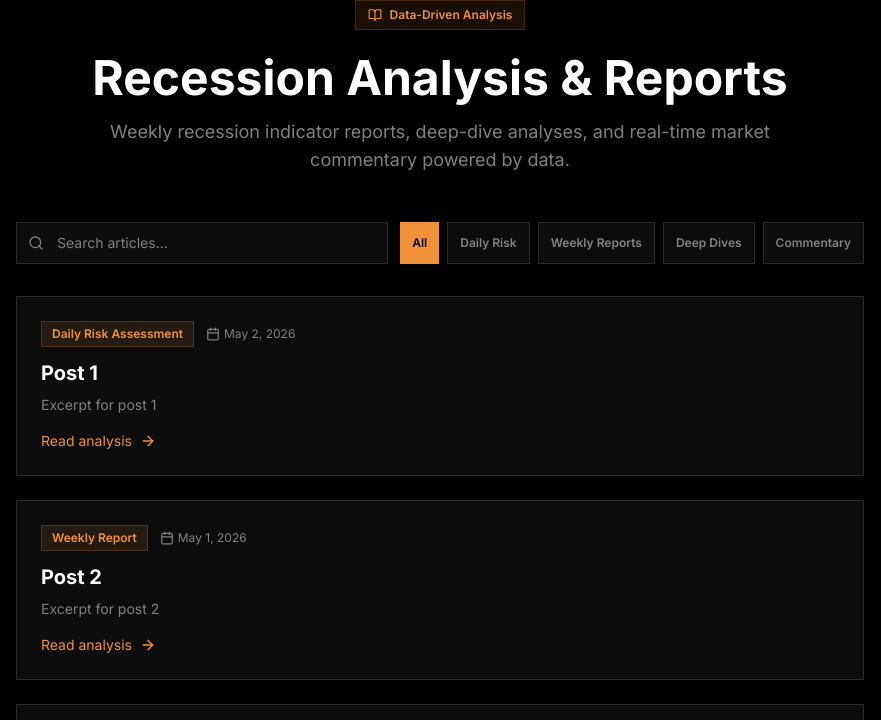
BlogList › should clear filters
The image size is (881, 720).
Type "nonexistent" into the field with placeholder "Search articles..." at (202, 243), box 16,222 -> 388,264
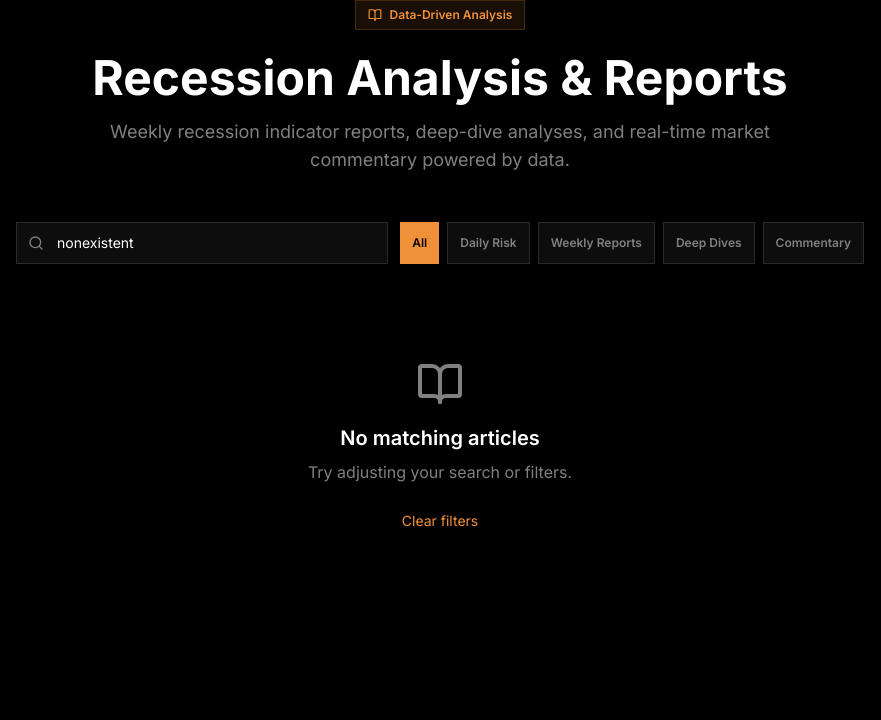
Click the button "Clear filters" at (440, 521), box 402,511 -> 478,531
(page scrolled)
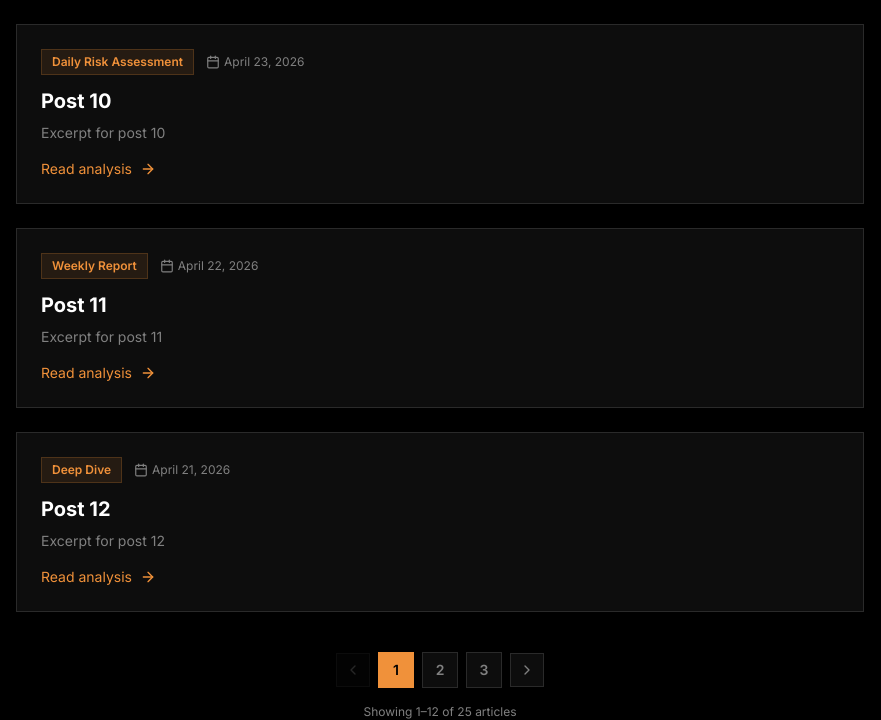
Check: the text "Showing 1–12 of 25 articles" is shown, box 364,704 -> 516,719
